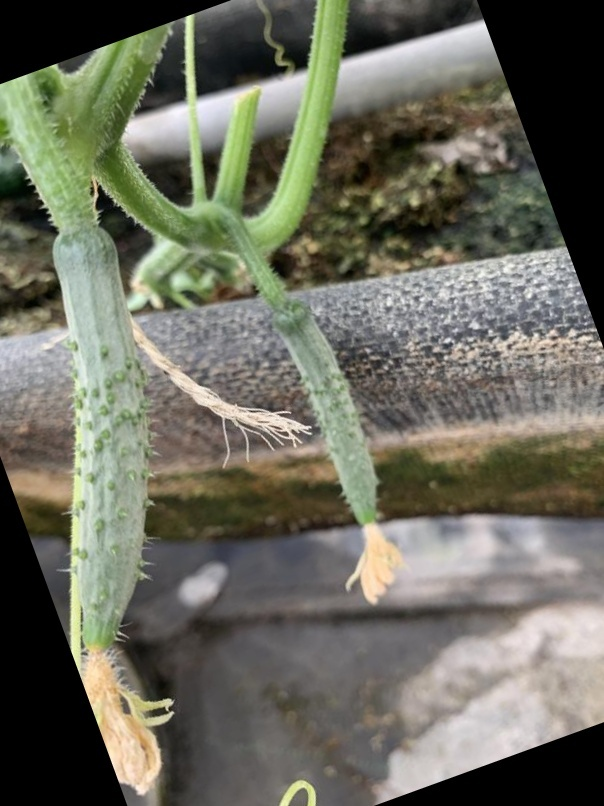bear: (260, 299, 405, 589)
growth: (37, 219, 159, 685), (261, 295, 398, 580)
